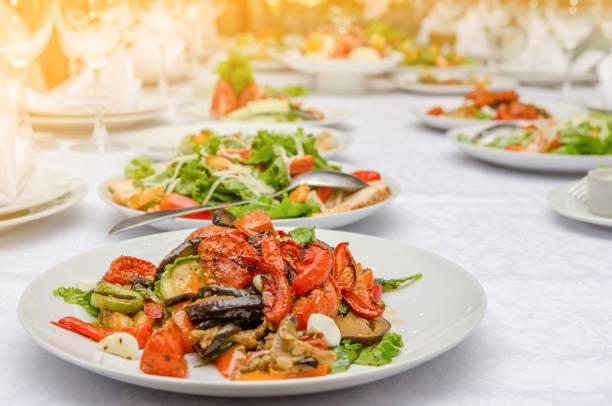Braised Crucian Carp: (15, 226, 483, 396), (98, 152, 397, 222)
